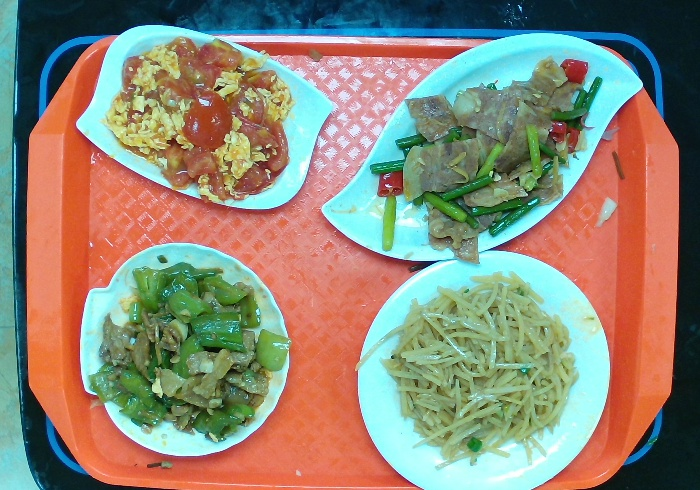RJxy-Bei_Ke_Wan: (78, 240, 291, 459)
RJxy-Jian_Jiao_Fang_Die: (74, 23, 333, 211)
RJxy-Jian_Jiao_Pan: (319, 30, 645, 263)
RJxy-Yuan_Pan: (354, 249, 612, 490)
